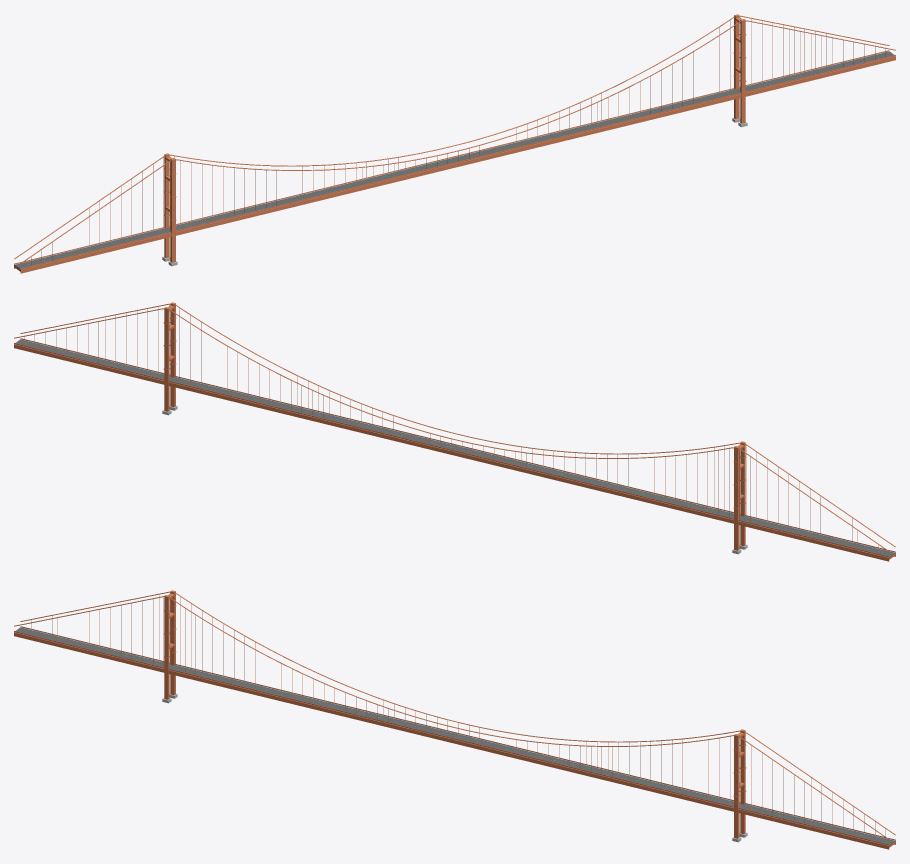
The picture shows the model from 3 angles, top to bottom: view 1: azimuth 30°, elevation 25°; view 2: azimuth 150°, elevation 25°; view 3: azimuth 330°, elevation 25°; orthographic projection.
Parts seen in each view (by area): view 1: worldgen; view 2: worldgen; view 3: worldgen.
Part boxes in pixels (x1,y1,x2,y2): worldgen: (14, 14, 895, 273); worldgen: (14, 302, 895, 561); worldgen: (14, 590, 895, 849).
Bounding box in the file's own units: 1967 × 227 × 35.29.
